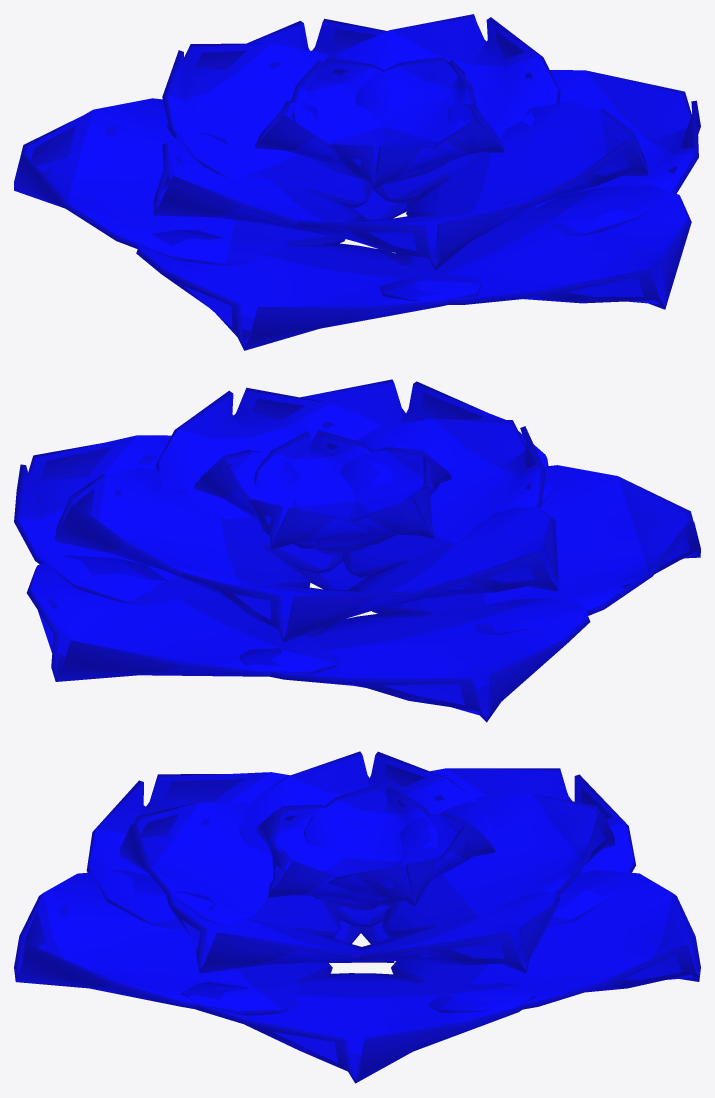
File: garden-rose-bloom-head-2-0000ff.glb
3 renders of one model, top to bottom at view 1: azimuth 30°, elevation 25°; view 2: azimuth 150°, elevation 25°; view 3: azimuth 270°, elevation 25°, orthographic. The views are drawn at different scales.
Parts seen in each view (by area): view 1: rose-bloom-head-2-0000ff; view 2: rose-bloom-head-2-0000ff; view 3: rose-bloom-head-2-0000ff.
Boxes of the visible parts, x1,y1,x2,y2 form: rose-bloom-head-2-0000ff: (14,14,700,350); rose-bloom-head-2-0000ff: (14,379,700,722); rose-bloom-head-2-0000ff: (14,751,700,1083).
Bounding box in the file's own units: 0.1716 × 0.0402 × 0.1783.
